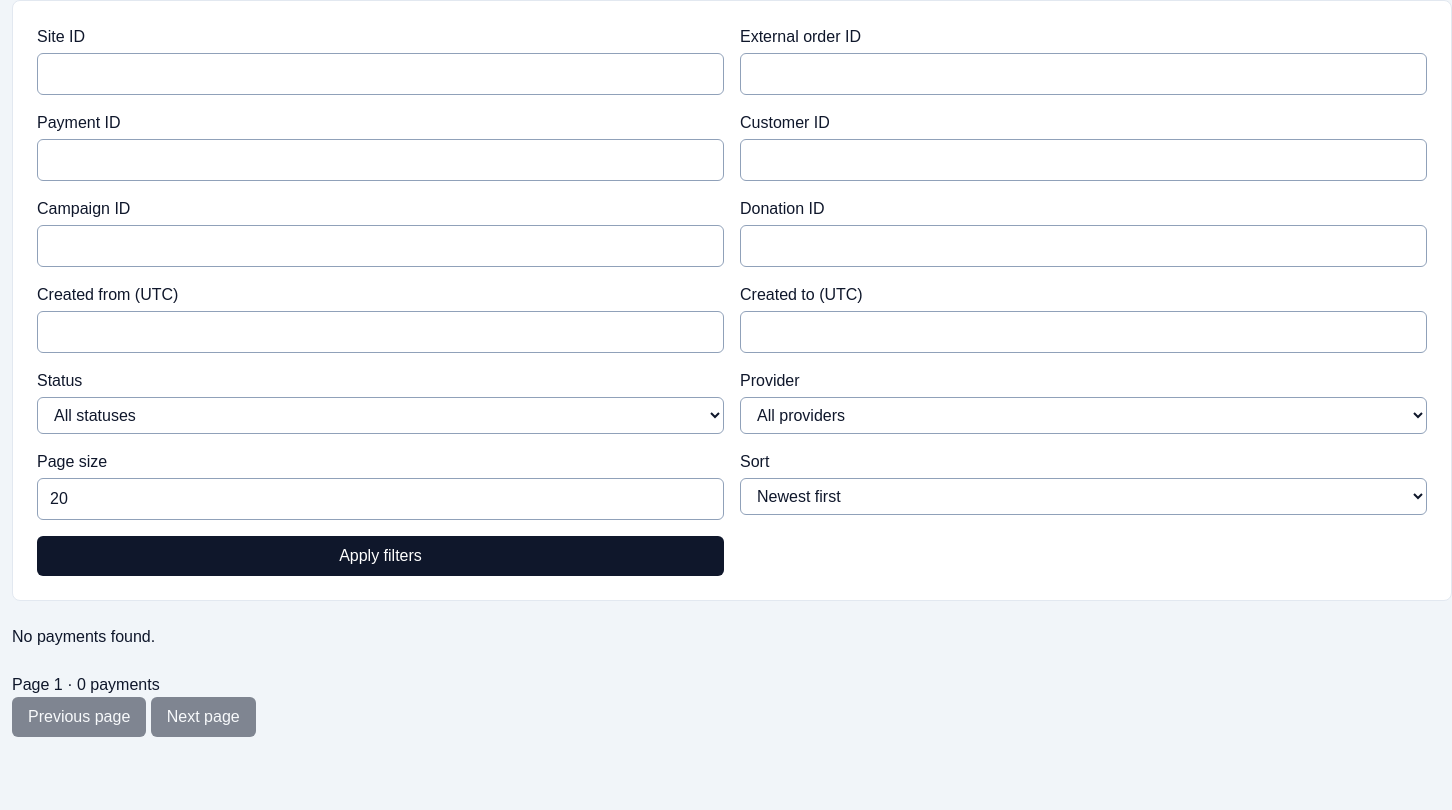
Test: rejects invalid UUID/date filter inputs before sending a query
This screenshot has width=1452, height=810.
Expected: the text "No payments found." is shown, [12,628,155,645]
Type "invalid" into the field labelled "Site ID" at (380, 74), box [37,53,724,95]
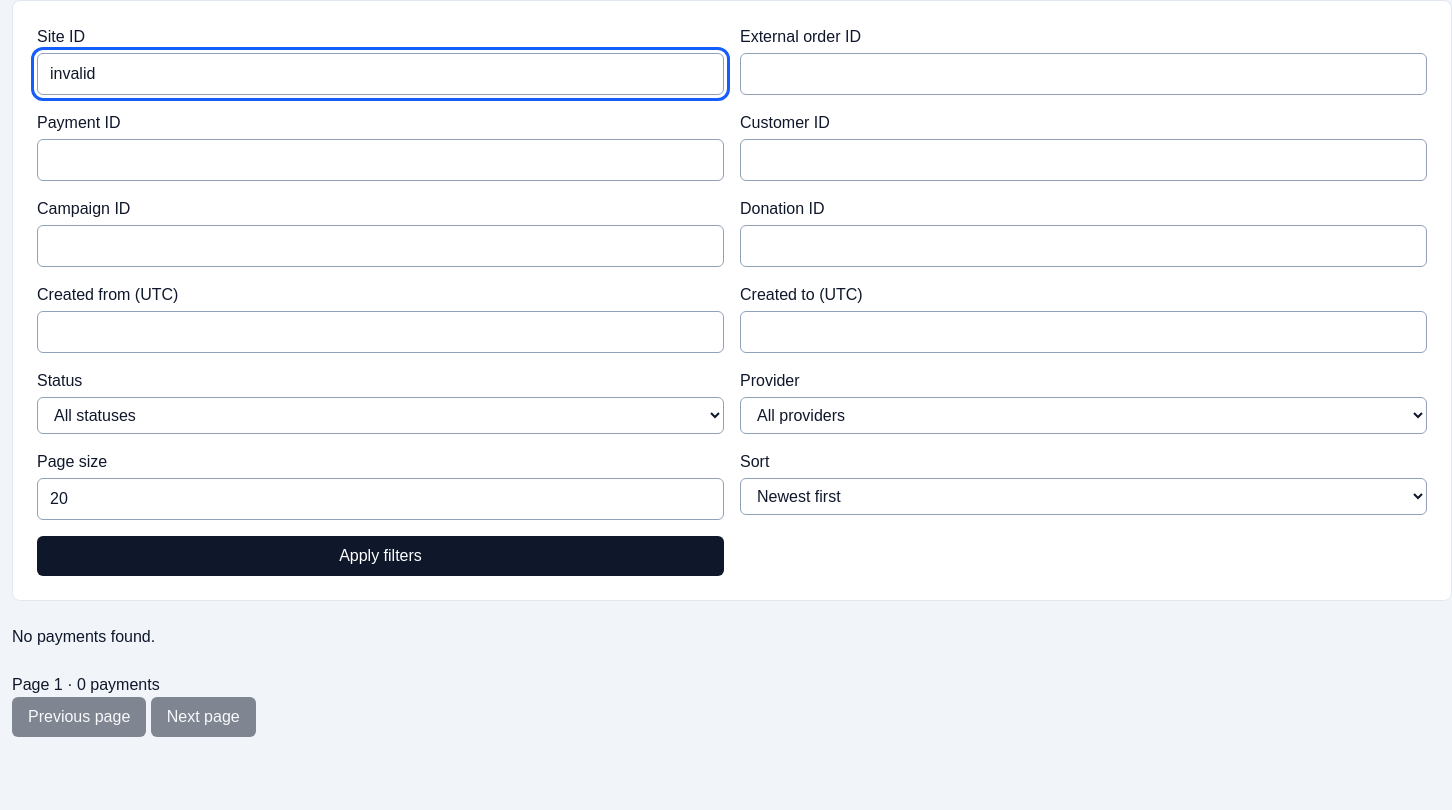
Click the button "Apply filters" at (380, 556), box [37,536,724,576]
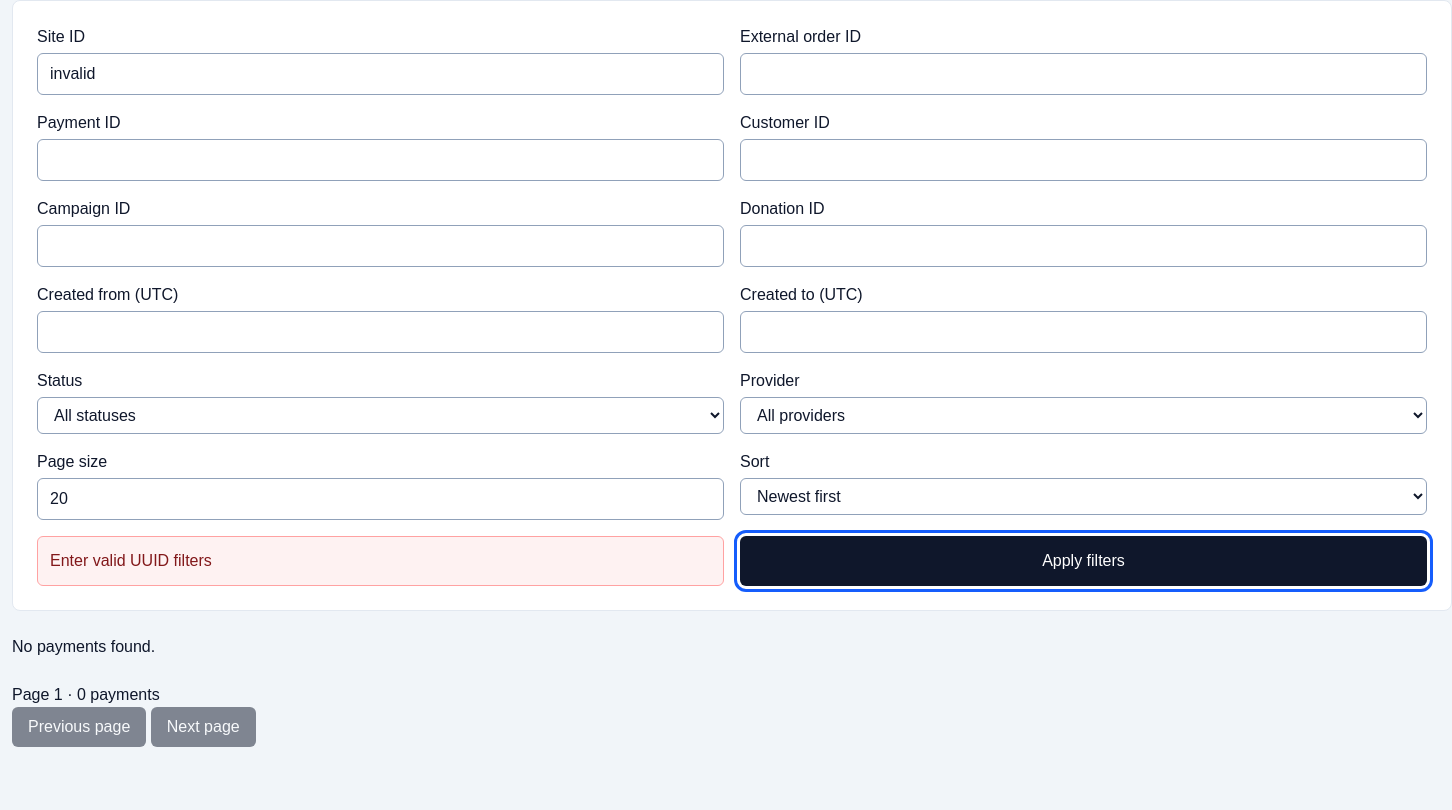
Result: the message "Enter valid UUID filters" is shown at [37,536,724,586]
